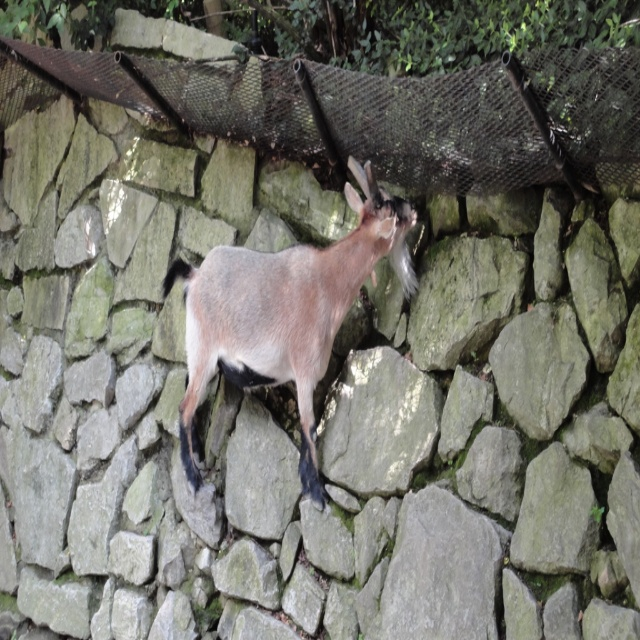Goat: (161, 155, 417, 511)
